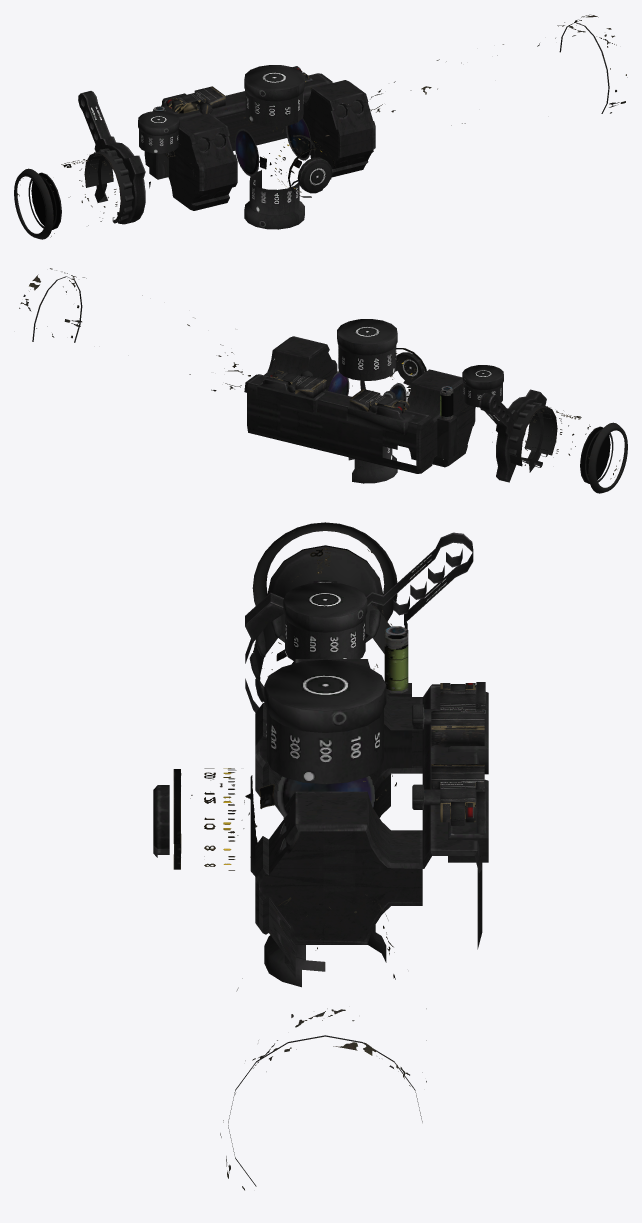
Rendered from t6_wpn_sniper_ballista_scope_view_LOD0.obj.
3 views of the same model, one above another, from view 1: azimuth 30°, elevation 25°; view 2: azimuth 150°, elevation 25°; view 3: azimuth 270°, elevation 25° (orthographic). The views are drawn at different scales.
Parts seen in each view (by area): view 1: mtl_t6_wpn_sniper_ballista_scope_camo1, mtl_t6_wpn_sniper_ballista_scope_camo2, mtl_t6_wpn_sniper_ballista_camo3, mtl_t6_wpn_sniper_ballista_lens; view 2: mtl_t6_wpn_sniper_ballista_scope_camo1, mtl_t6_wpn_sniper_ballista_scope_camo2, mtl_t6_wpn_sniper_ballista_camo3, mtl_t6_wpn_sniper_ballista_lens; view 3: mtl_t6_wpn_sniper_ballista_scope_camo1, mtl_t6_wpn_sniper_ballista_scope_camo2, mtl_t6_wpn_sniper_ballista_camo3.
Boxes of the visible parts, box(x1,y1,x2,y2) form: mtl_t6_wpn_sniper_ballista_scope_camo1: box(14, 22, 610, 237); mtl_t6_wpn_sniper_ballista_scope_camo2: box(16, 14, 627, 239); mtl_t6_wpn_sniper_ballista_camo3: box(166, 67, 308, 114); mtl_t6_wpn_sniper_ballista_lens: box(31, 173, 60, 229); mtl_t6_wpn_sniper_ballista_scope_camo1: box(32, 276, 627, 491); mtl_t6_wpn_sniper_ballista_scope_camo2: box(19, 268, 625, 493); mtl_t6_wpn_sniper_ballista_camo3: box(269, 370, 409, 412); mtl_t6_wpn_sniper_ballista_lens: box(581, 427, 610, 483); mtl_t6_wpn_sniper_ballista_scope_camo1: box(157, 523, 488, 1186); mtl_t6_wpn_sniper_ballista_scope_camo2: box(153, 522, 426, 1190); mtl_t6_wpn_sniper_ballista_camo3: box(412, 683, 484, 822).
Size of the model in its own units: 36.53 by 8.5 by 9.29.
